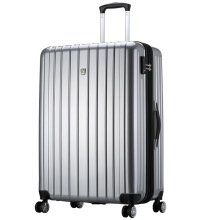suitcase: (32, 0, 169, 220)
